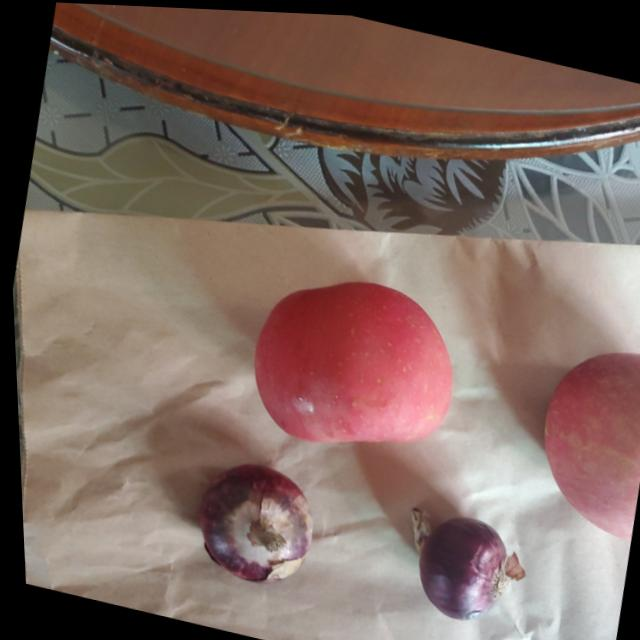apple: (239, 252, 471, 469), (516, 324, 640, 534)
onion: (183, 448, 323, 597), (395, 502, 514, 627)
